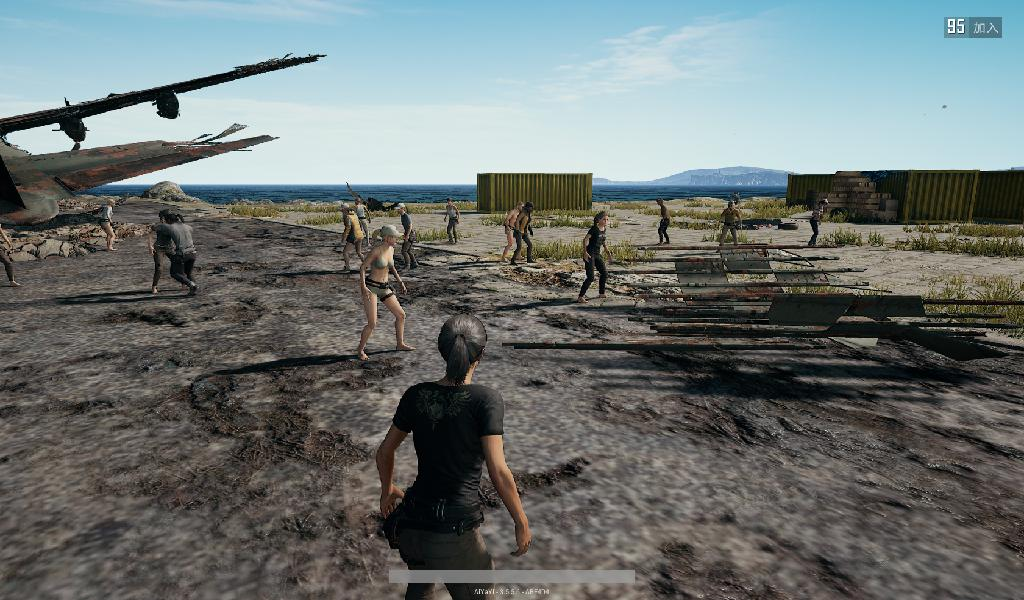Target Person: (373, 312, 532, 600), (357, 224, 416, 358), (578, 209, 613, 306), (146, 210, 181, 294), (165, 213, 198, 301), (338, 203, 368, 274), (713, 200, 745, 254), (514, 202, 536, 265), (501, 201, 523, 261), (96, 196, 119, 251), (807, 197, 831, 246), (442, 195, 461, 246), (654, 196, 671, 247)
